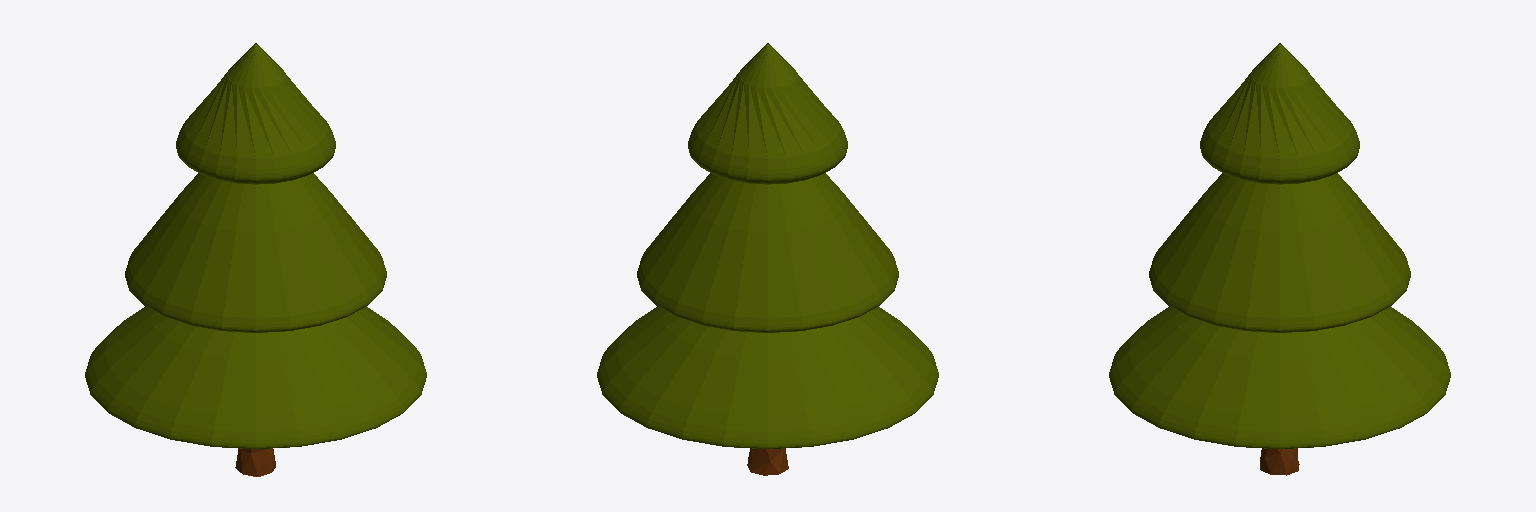
Rendered from tree3.obj.
3 renders of one model, left to right at view 1: azimuth 30°, elevation 25°; view 2: azimuth 150°, elevation 25°; view 3: azimuth 270°, elevation 25°, orthographic.
Visible parts, largest first — view 1: Lathe, Cylinder; view 2: Lathe, Cylinder; view 3: Lathe, Cylinder.
Boxes of the visible parts, x1=… form: Lathe: x1=85, y1=43, x2=426, y2=448; Cylinder: x1=235, y1=448, x2=275, y2=476; Lathe: x1=597, y1=43, x2=938, y2=448; Cylinder: x1=747, y1=448, x2=788, y2=475; Lathe: x1=1109, y1=43, x2=1450, y2=448; Cylinder: x1=1260, y1=448, x2=1299, y2=475.
Size of the model in its own units: 447 by 612 by 447.